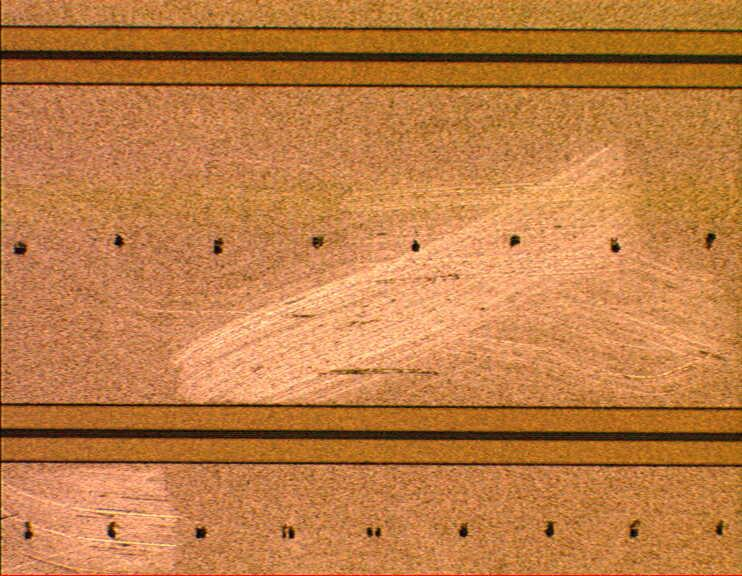SCRATCH: (1, 142, 739, 576)
